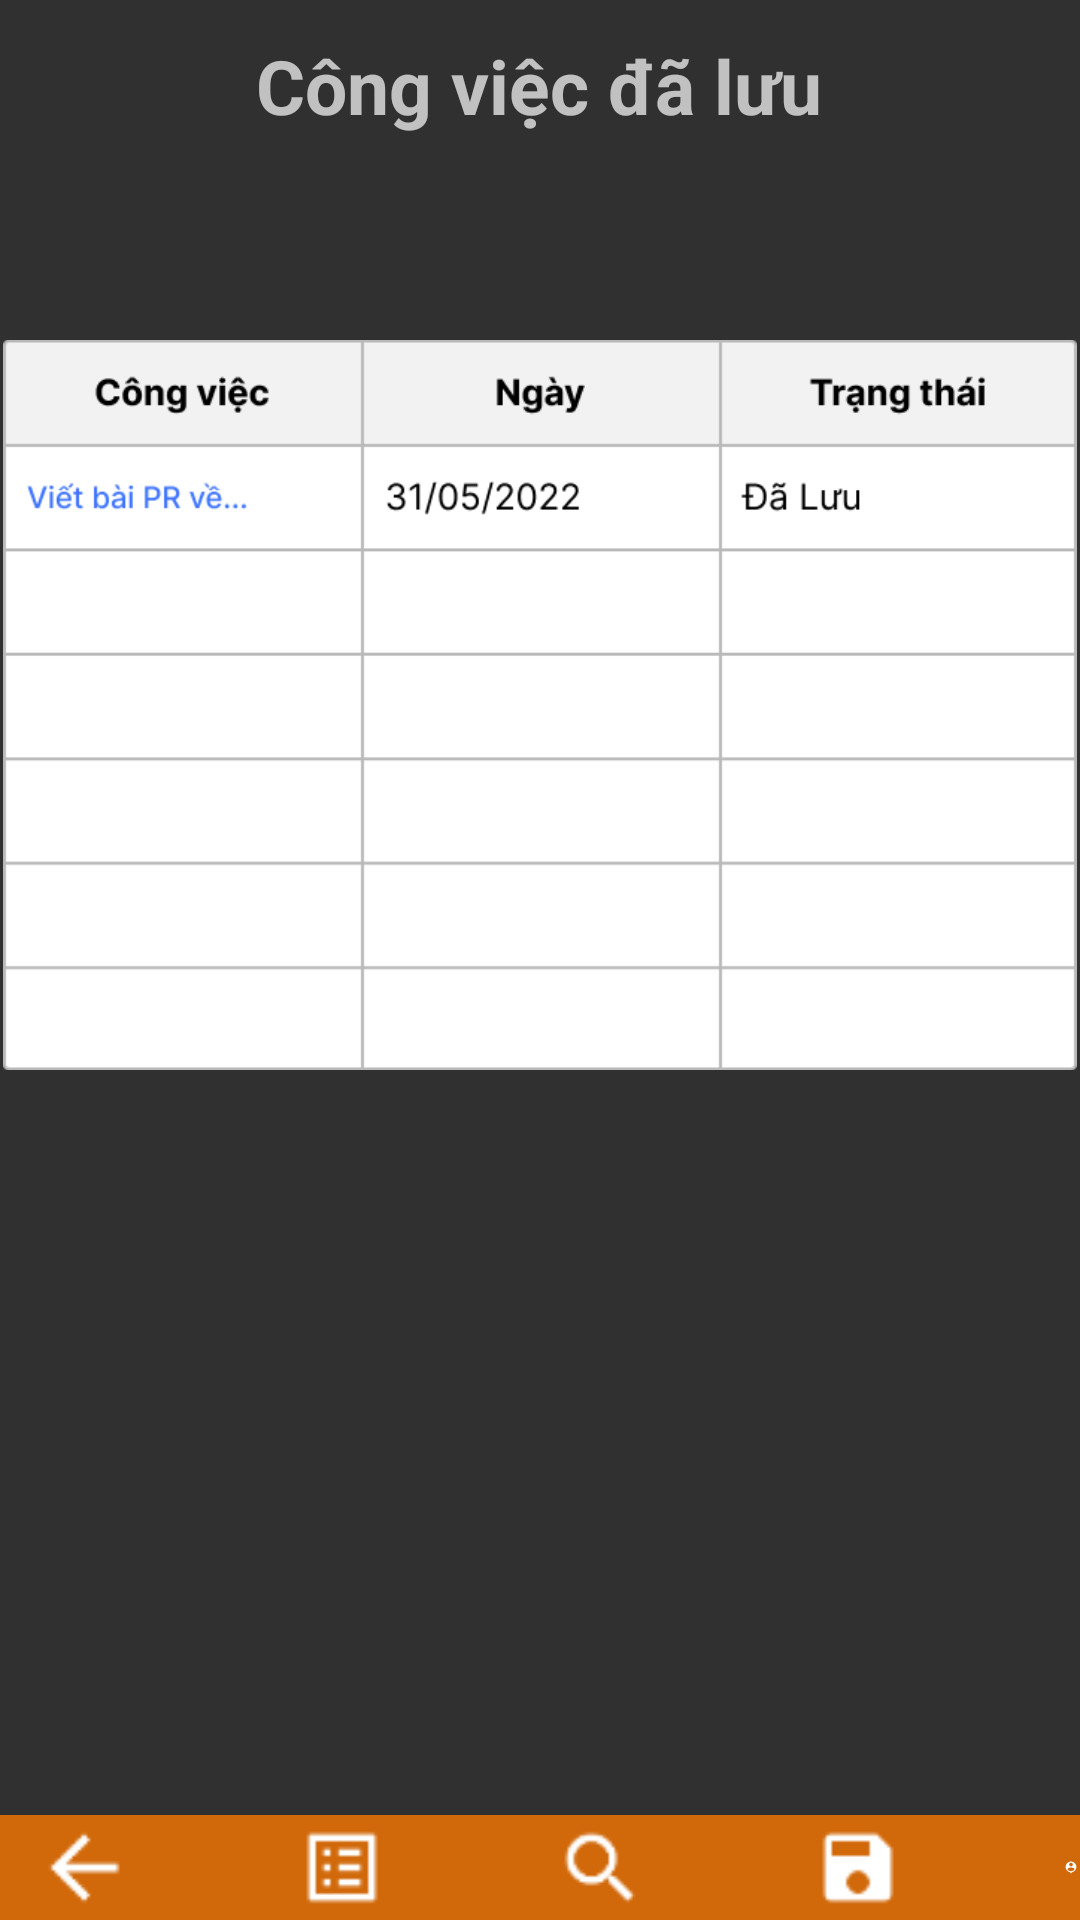

Point at icon controls on the screen. Image size 1080×1920, points as point (x, y).
imgback: point (85, 1867)
imglist: point (342, 1867)
imgsave: point (858, 1867)
imgsearch: point (599, 1867)
